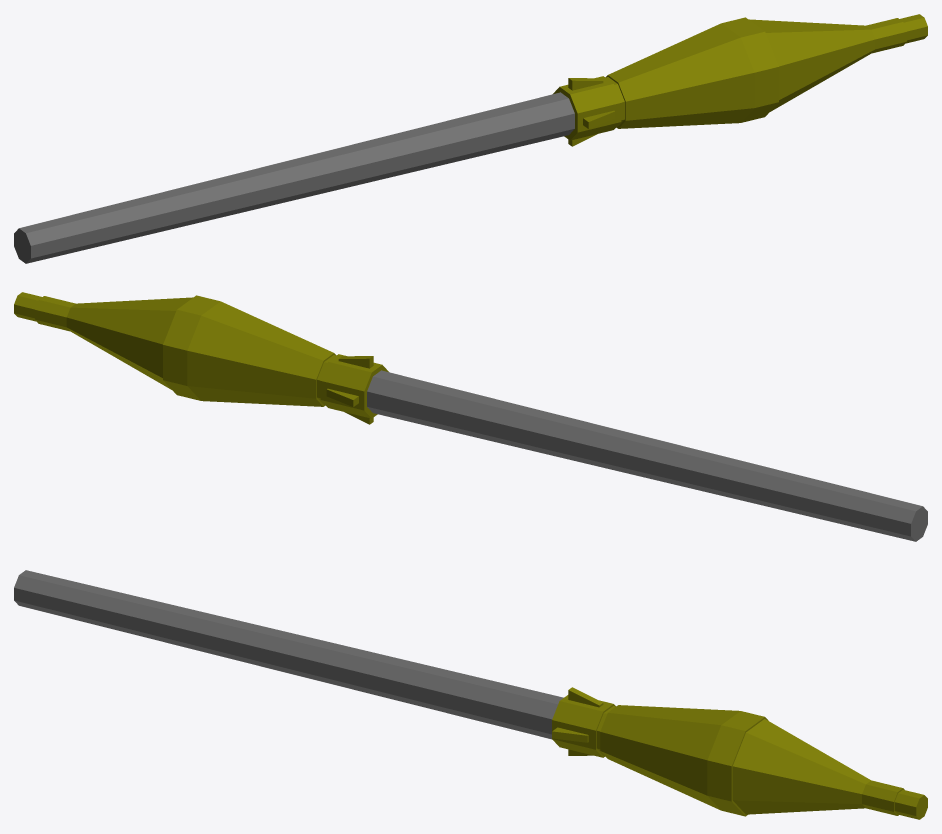
Rendered from HeavyWeapon2_04_3.fbx.
3 views of the same model, one above another, from view 1: azimuth 30°, elevation 25°; view 2: azimuth 150°, elevation 25°; view 3: azimuth 330°, elevation 25° (orthographic).
Visible parts, largest first — view 1: HeavyWeapon2_04_3; view 2: HeavyWeapon2_04_3; view 3: HeavyWeapon2_04_3.
Boxes of the visible parts, x1,y1,x2,y2 form: HeavyWeapon2_04_3: (14, 14, 927, 263); HeavyWeapon2_04_3: (14, 292, 927, 541); HeavyWeapon2_04_3: (14, 570, 927, 819).
Bounding box in the file's own units: 1.07 × 0.097 × 0.097.
